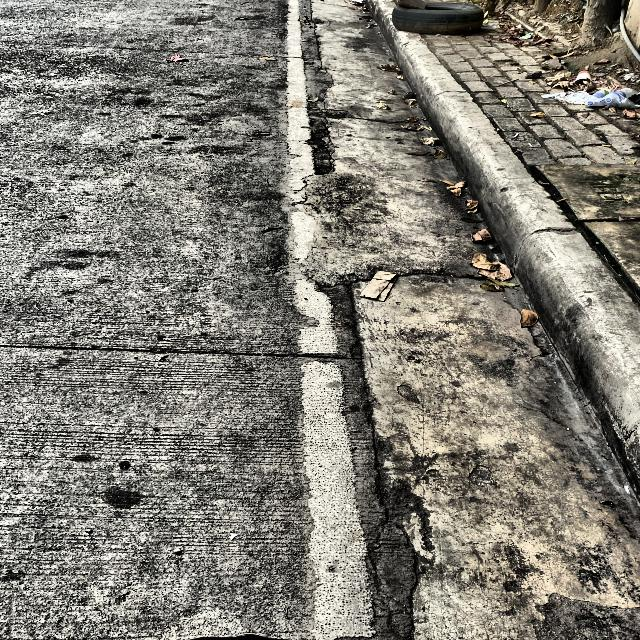no_or_faded_road_markings: (301, 358, 375, 640), (286, 14, 315, 211), (294, 275, 340, 355), (291, 211, 314, 270)
